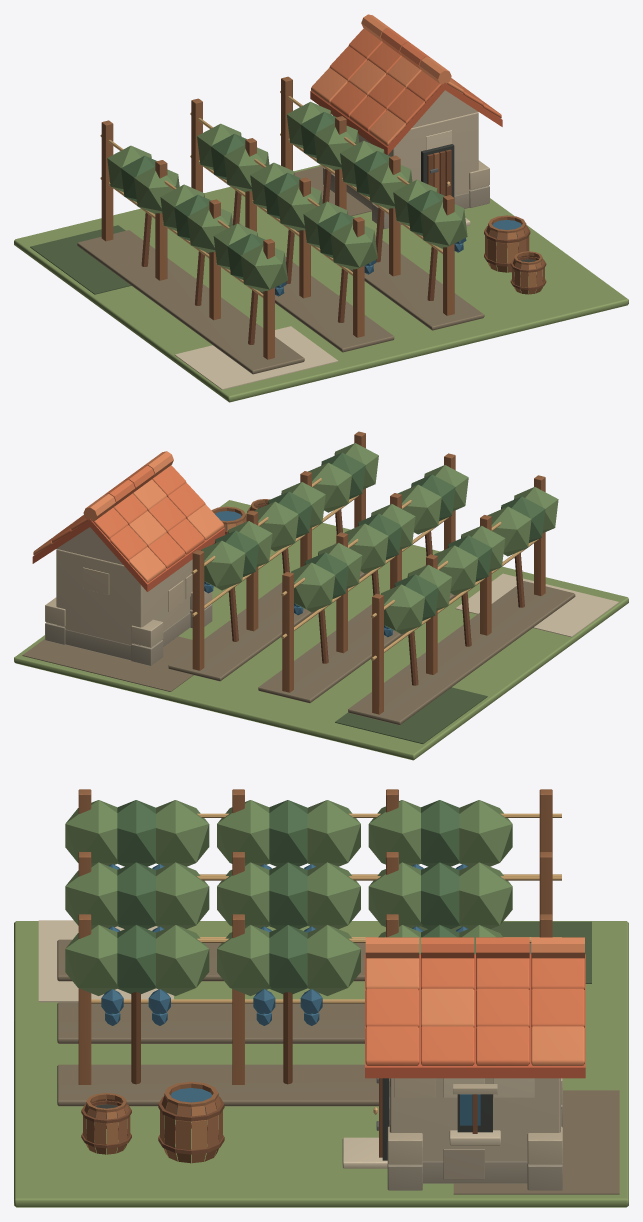
The model's file is vineyard.glb.
3 renders of one model, top to bottom at view 1: azimuth 30°, elevation 25°; view 2: azimuth 150°, elevation 25°; view 3: azimuth 270°, elevation 25°, orthographic. The views are drawn at different scales.
Parts seen in each view (by area): view 1: vineyard; view 2: vineyard; view 3: vineyard.
Part boxes in pixels (box(x1,y1,x2,y2)): vineyard: box(14, 14, 628, 402); vineyard: box(14, 431, 628, 760); vineyard: box(14, 789, 628, 1207).
Bounding box in the file's own units: 3.35 × 1.28 × 3.12.
